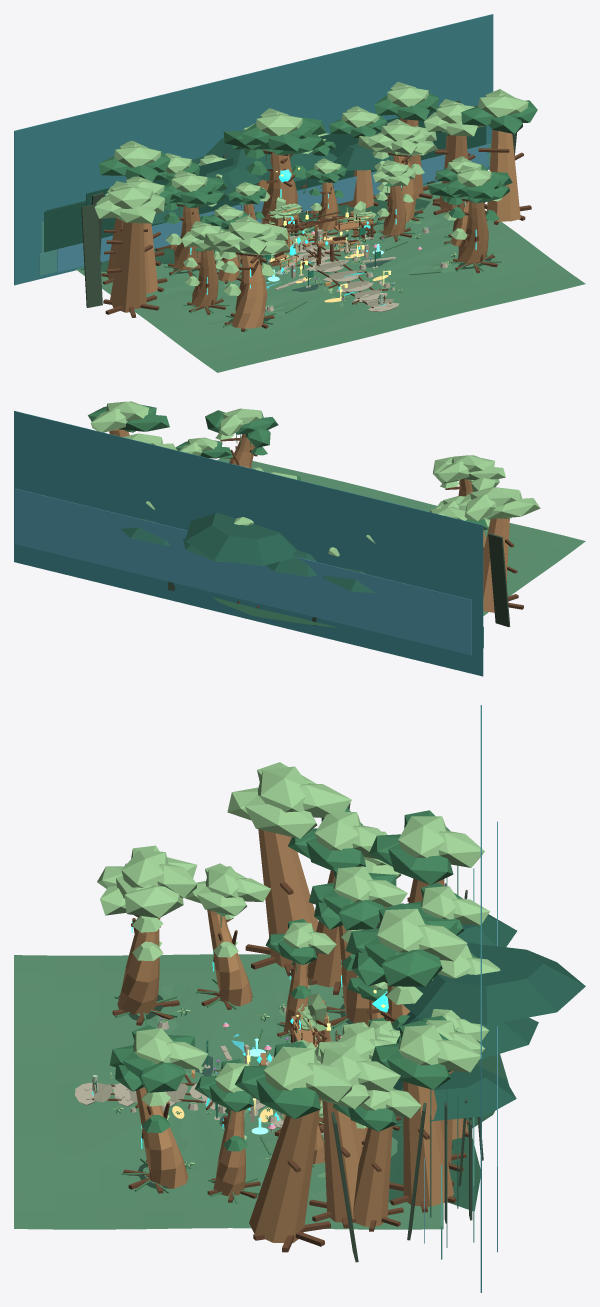
File: heartbough_glade_entrance_v001.glb
3 views of the same model, one above another, from view 1: azimuth 30°, elevation 25°; view 2: azimuth 150°, elevation 25°; view 3: azimuth 270°, elevation 25° (orthographic). The views are drawn at different scales.
Visible parts, largest first — view 1: SCENE_Terrain_SoftBlueSkyBackdrop, ENV_TERRAIN_FOREST_FLOOR_MAIN, ENV_TERRAIN_SOFT_EDGE_BLEND, SCENE_Worldroot_TreeVariant_BackgroundSideCurtain_00_TREE_WO (×3), SCENE_Worldroot_TreeVariant_BackgroundSideCurtain_01_TREE_WO (×4), SCENE_Terrain_BlueGreenAtmosphericDepthVeil_Mid, SCENE_Worldroot_TreeVariant_HeroHeartboughFocal_AncientMemor (×3), SCENE_Worldroot_TreeVariant_HeroFraming_00_TREE_WORLDROOT_HE (×2), READABILITY_FOREST_DEPTH_DarkGreenLayeredCanopyWall_Back_00, SCENE_Worldroot_TreeVariant_HeroFraming_01_TREE_WORLDROOT_HE (×2), SCENE_Terrain_BackdropMassiveWorldrootTrunkFrame_00, SCENE_Worldroot_TreeVariant_HeroFraming_02_TREE_WORLDROOT_HE (×2) (+19 smaller); view 2: SCENE_Terrain_SoftBlueSkyBackdrop, SCENE_Terrain_BlueGreenAtmosphericDepthVeil_Back, ENV_TERRAIN_FOREST_FLOOR_MAIN, SCENE_Terrain_BackdropDenseCanopyCurtain_04, SCENE_Worldroot_TreeVariant_BackgroundSideCurtain_00_TREE_WO (×4), SCENE_Worldroot_TreeVariant_HeroFraming_01_TREE_WORLDROOT_HE (×5), SCENE_Worldroot_TreeVariant_BackgroundSideCurtain_01_TREE_WO (×3), SCENE_Terrain_BackdropMassiveWorldrootTrunkFrame_00, SCENE_Worldroot_TreeVariant_HeroFraming_00_TREE_WORLDROOT_HE (×3), ENV_TERRAIN_FOREST_BACKGROUND_LAYER, SCENE_Terrain_BackdropDenseCanopyCurtain_01, SCENE_Terrain_BackdropDenseCanopyCurtain_00 (+1 smaller); view 3: ENV_TERRAIN_FOREST_FLOOR_MAIN, ENV_TERRAIN_SOFT_EDGE_BLEND, SCENE_Worldroot_TreeVariant_BackgroundSideCurtain_01_TREE_WO (×4), SCENE_Worldroot_TreeVariant_BackgroundSideCurtain_00_TREE_WO (×4), SCENE_Terrain_BackdropDenseCanopyCurtain_04, SCENE_Worldroot_TreeVariant_BackgroundSilhouette_07_TREE_WOR (×4), SCENE_Worldroot_TreeVariant_HeroFraming_00_TREE_WORLDROOT_HE (×4), SCENE_Worldroot_TreeVariant_HeroHeartboughFocal_AncientMemor (×4), SCENE_Worldroot_TreeVariant_HeroFraming_01_TREE_WORLDROOT_HE (×4), SCENE_Worldroot_TreeVariant_BackgroundSideCurtain_03_TREE_WO (×3), SCENE_Worldroot_TreeVariant_BackgroundSilhouette_01_TREE_WOR (×3), SCENE_Worldroot_TreeVariant_HeroFraming_02_TREE_WORLDROOT_HE (×4) (+16 smaller).
Boxes of the visible parts, x1,y1,x2,y2 form: SCENE_Terrain_SoftBlueSkyBackdrop: [14, 14, 493, 285]; ENV_TERRAIN_FOREST_FLOOR_MAIN: [76, 181, 585, 372]; ENV_TERRAIN_SOFT_EDGE_BLEND: [171, 232, 473, 330]; SCENE_Worldroot_TreeVariant_BackgroundSideCurtain_00_TREE_WO (×3): [108, 186, 155, 312]; SCENE_Worldroot_TreeVariant_BackgroundSideCurtain_01_TREE_WO (×4): [461, 95, 528, 221]; SCENE_Terrain_BlueGreenAtmosphericDepthVeil_Mid: [57, 144, 487, 272]; SCENE_Worldroot_TreeVariant_HeroHeartboughFocal_AncientMemor (×3): [256, 114, 302, 229]; SCENE_Worldroot_TreeVariant_HeroFraming_00_TREE_WORLDROOT_HE (×2): [228, 220, 271, 328]; READABILITY_FOREST_DEPTH_DarkGreenLayeredCanopyWall_Back_00: [44, 106, 486, 252]; SCENE_Worldroot_TreeVariant_HeroFraming_01_TREE_WORLDROOT_HE (×2): [457, 169, 491, 263]; SCENE_Terrain_BackdropMassiveWorldrootTrunkFrame_00: [81, 204, 102, 307]; SCENE_Worldroot_TreeVariant_HeroFraming_02_TREE_WORLDROOT_HE (×2): [171, 174, 207, 269]; SCENE_Terrain_SoftBlueSkyBackdrop: [14, 411, 483, 676]; SCENE_Terrain_BlueGreenAtmosphericDepthVeil_Back: [15, 488, 471, 655]; ENV_TERRAIN_FOREST_FLOOR_MAIN: [217, 458, 585, 615]; SCENE_Terrain_BackdropDenseCanopyCurtain_04: [185, 513, 296, 565]; SCENE_Worldroot_TreeVariant_BackgroundSideCurtain_00_TREE_WO (×4): [464, 487, 540, 612]; SCENE_Worldroot_TreeVariant_HeroFraming_01_TREE_WORLDROOT_HE (×5): [218, 408, 278, 468]; SCENE_Worldroot_TreeVariant_BackgroundSideCurtain_01_TREE_WO (×3): [90, 401, 169, 432]; SCENE_Terrain_BackdropMassiveWorldrootTrunkFrame_00: [488, 533, 510, 626]; SCENE_Worldroot_TreeVariant_HeroFraming_00_TREE_WORLDROOT_HE (×3): [438, 455, 505, 482]; ENV_TERRAIN_FOREST_BACKGROUND_LAYER: [213, 597, 336, 627]; SCENE_Terrain_BackdropDenseCanopyCurtain_01: [266, 550, 316, 576]; SCENE_Terrain_BackdropDenseCanopyCurtain_00: [323, 567, 375, 593]; ENV_TERRAIN_FOREST_FLOOR_MAIN: [14, 954, 443, 1229]; ENV_TERRAIN_SOFT_EDGE_BLEND: [64, 975, 288, 1190]; SCENE_Worldroot_TreeVariant_BackgroundSideCurtain_01_TREE_WO (×4): [249, 1046, 352, 1243]; SCENE_Worldroot_TreeVariant_BackgroundSideCurtain_00_TREE_WO (×4): [244, 766, 351, 967]; SCENE_Terrain_BackdropDenseCanopyCurtain_04: [402, 945, 585, 1024]; SCENE_Worldroot_TreeVariant_BackgroundSilhouette_07_TREE_WOR (×4): [386, 1025, 480, 1206]; SCENE_Worldroot_TreeVariant_HeroFraming_00_TREE_WORLDROOT_HE (×4): [117, 850, 196, 1014]; SCENE_Worldroot_TreeVariant_HeroHeartboughFocal_AncientMemor (×4): [351, 908, 467, 986]; SCENE_Worldroot_TreeVariant_HeroFraming_01_TREE_WORLDROOT_HE (×4): [133, 1028, 207, 1188]; SCENE_Worldroot_TreeVariant_BackgroundSideCurtain_03_TREE_WO (×3): [321, 1046, 400, 1222]; SCENE_Worldroot_TreeVariant_BackgroundSilhouette_01_TREE_WOR (×3): [388, 816, 484, 884]; SCENE_Worldroot_TreeVariant_HeroFraming_02_TREE_WORLDROOT_HE (×4): [333, 866, 407, 1026].
Size of the model in its own units: 78 by 24 by 53.24.
